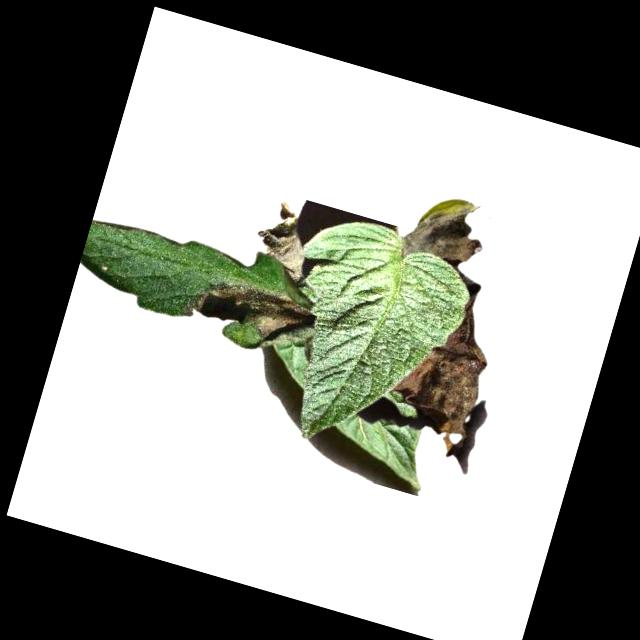Late_blight: (374, 265, 510, 475), (178, 267, 324, 358), (400, 185, 494, 275), (246, 196, 325, 287)
healthy: (254, 207, 482, 471)
